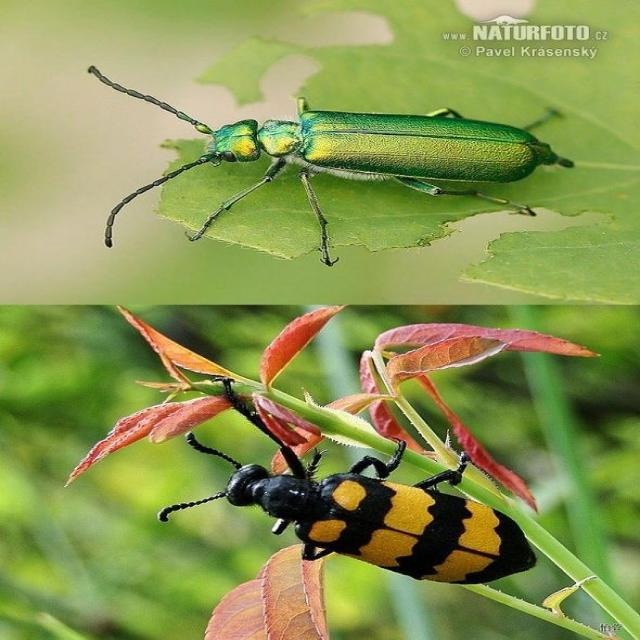BlisterBeetle-Adult-: (64, 46, 579, 269), (156, 390, 539, 594)
